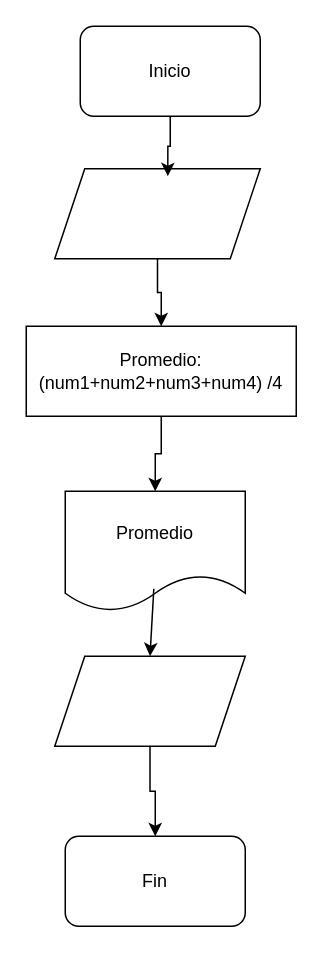
Some shapes in this 323 by 953 pixel diagram are drawn without their labels. Each missing label, with the box of its shape:
leer num1, num2, num3, num4: (53, 167, 260, 259)
Mostrar promedio: (53, 655, 245, 746)
